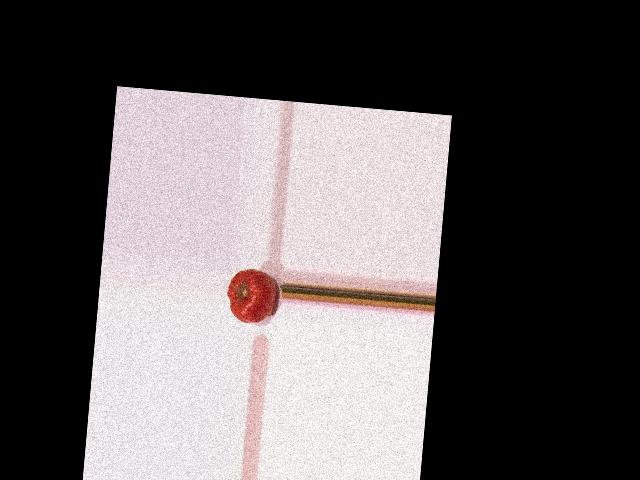tomato: (225, 267, 277, 324)
